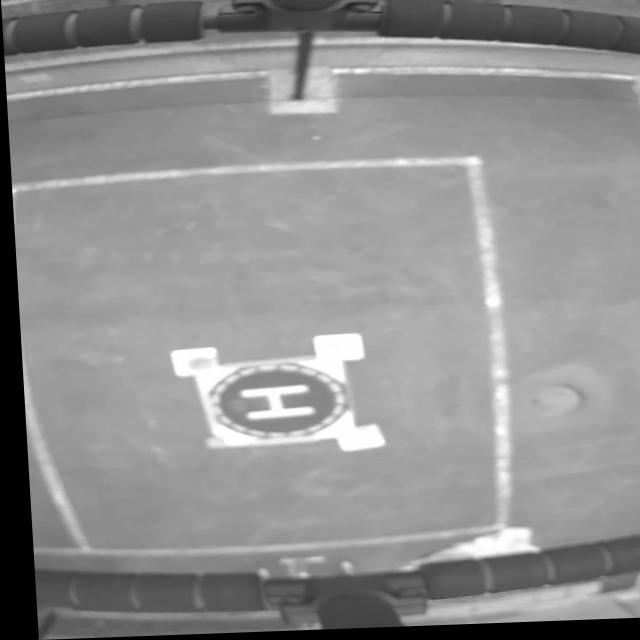Helipad: (233, 386, 307, 423)
